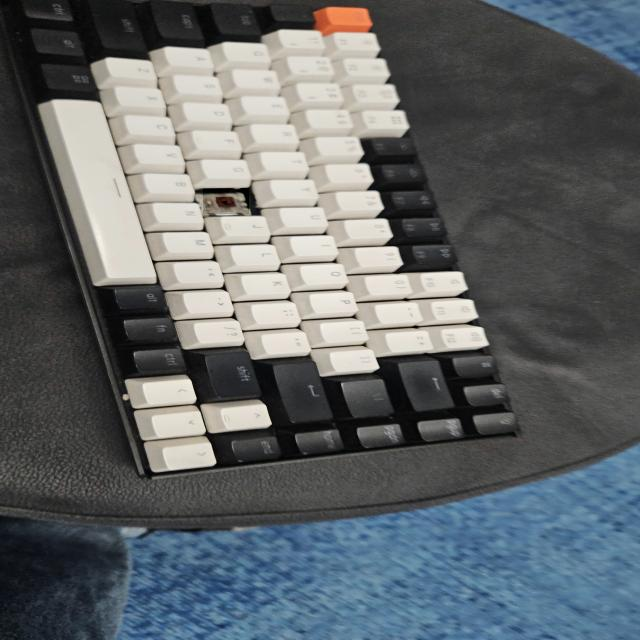C: (203, 188, 250, 214), (210, 194, 244, 211)
